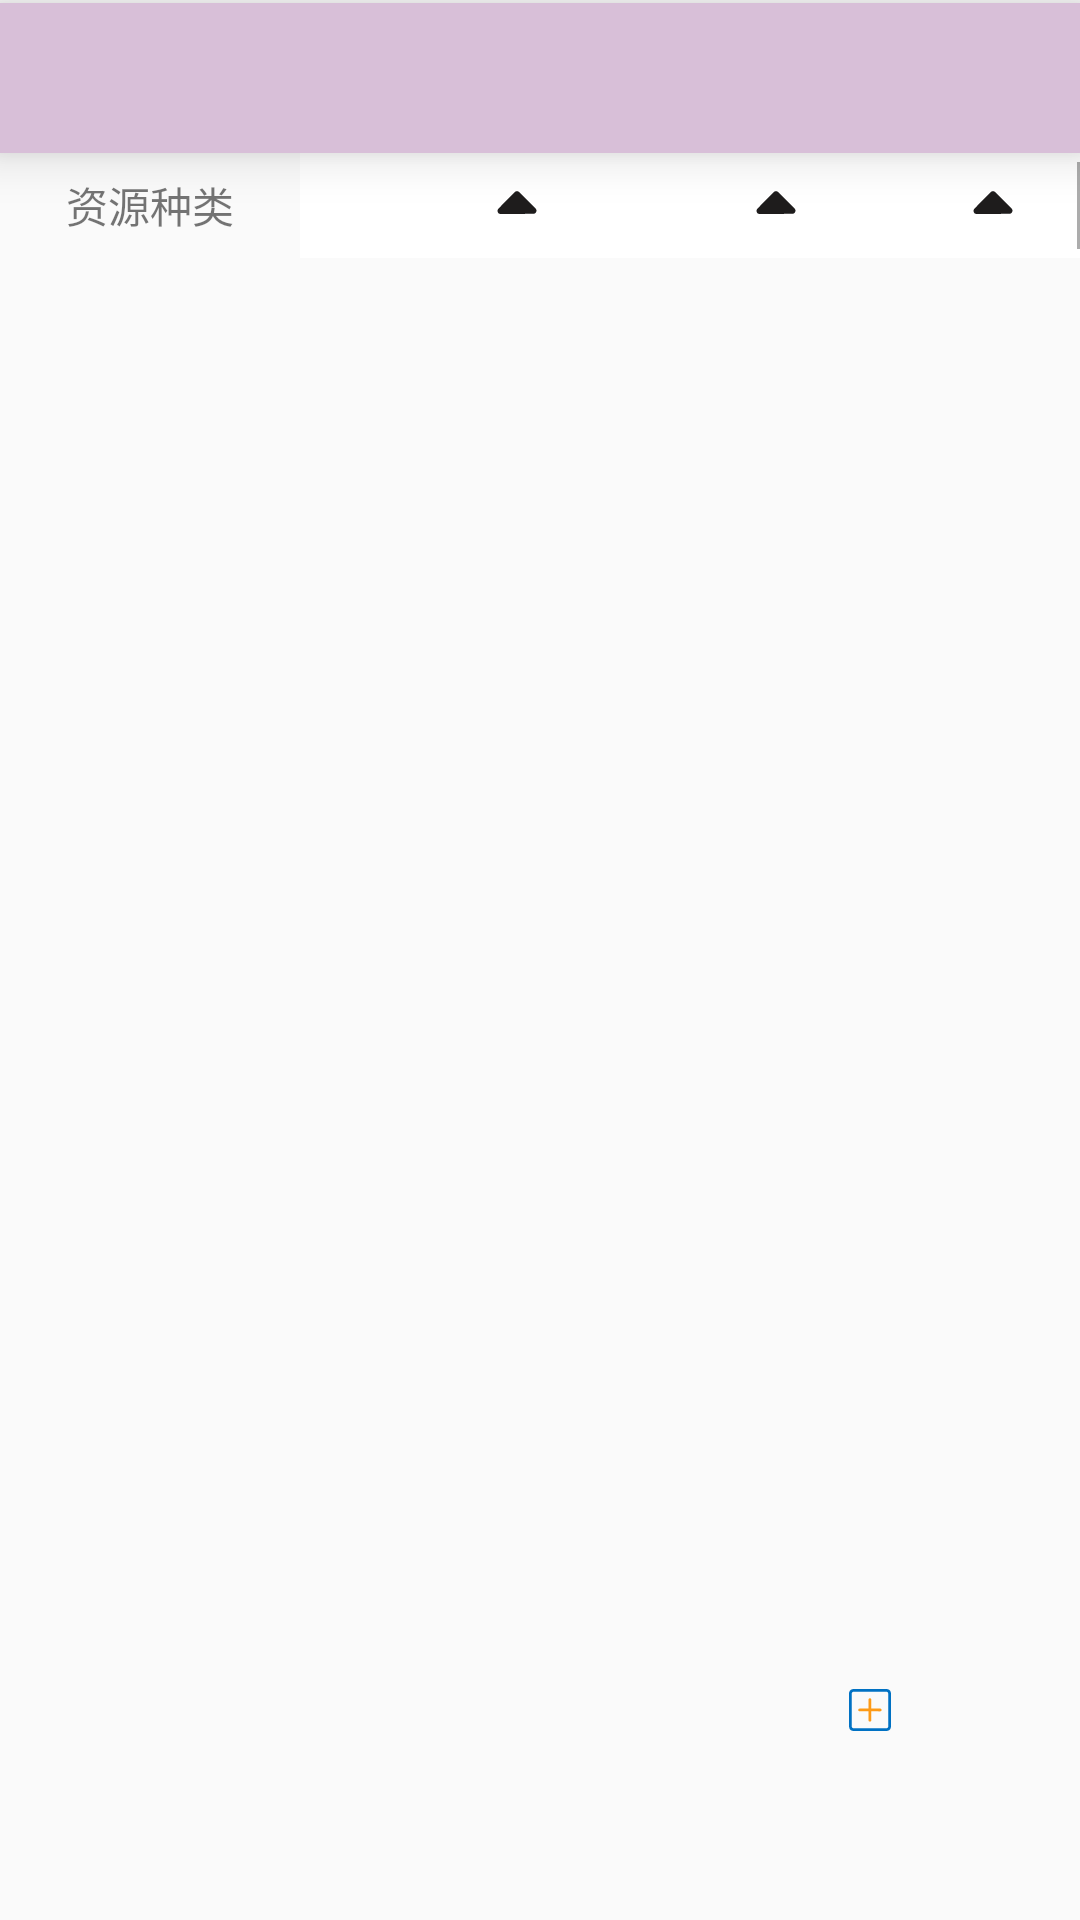

Screen size 1080px×1920px. Icon name, then its box in pixels as [x1=x1, y1=y1, x2=x2, y2=y2]:
add character: [x1=849, y1=1689, x2=891, y2=1731]
